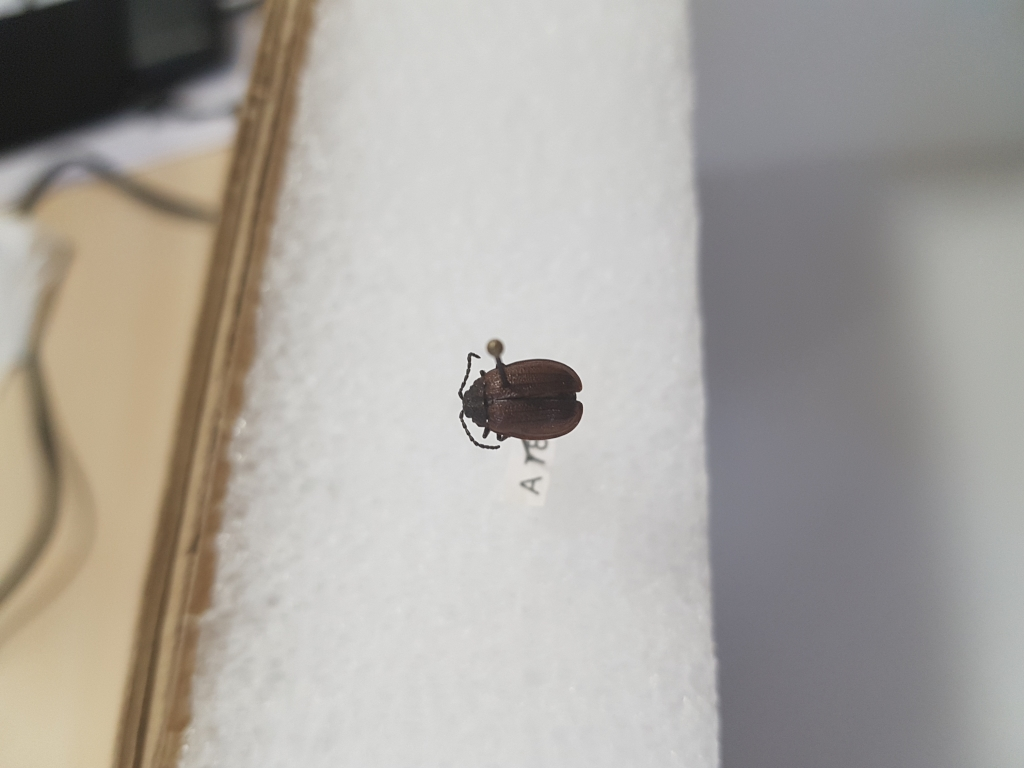Galeruca_tanaceti: (453, 351, 588, 454)
